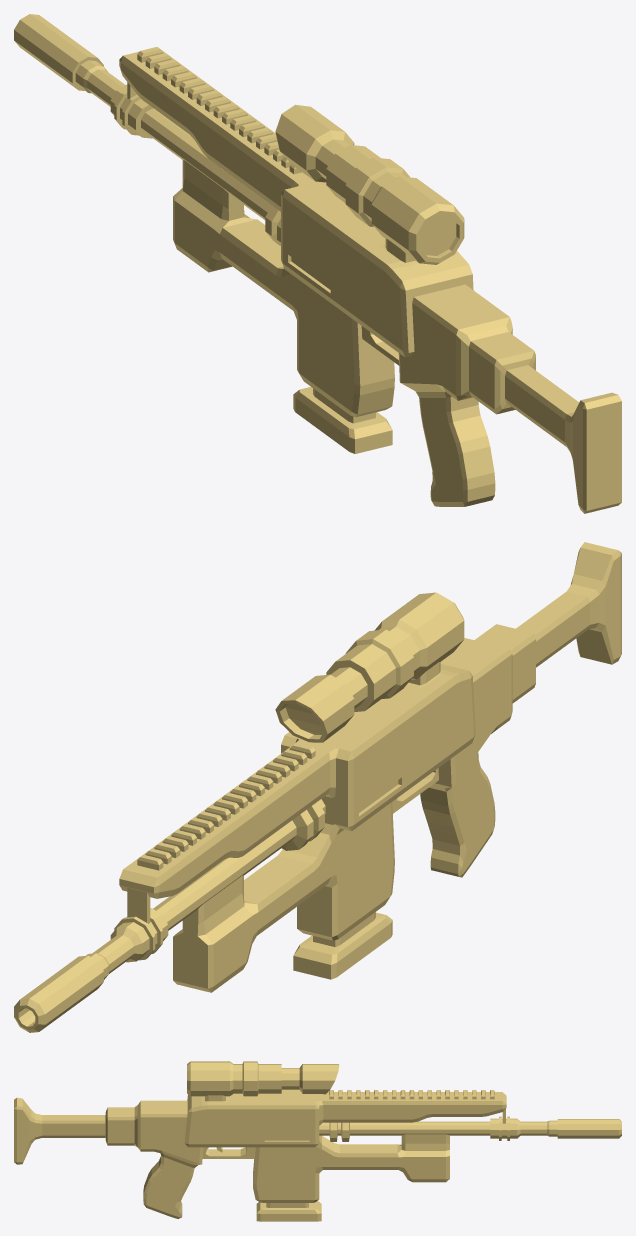
The model's file is rifle.glb.
3 views of the same model, one above another, from view 1: azimuth 30°, elevation 25°; view 2: azimuth 150°, elevation 25°; view 3: azimuth 270°, elevation 25° (orthographic). The views are drawn at different scales.
Parts seen in each view (by area): view 1: Rifle_Cube; view 2: Rifle_Cube; view 3: Rifle_Cube.
Part boxes in pixels (x1,y1,x2,y2): Rifle_Cube: (14,14,621,513); Rifle_Cube: (14,542,621,1032); Rifle_Cube: (14,1061,621,1221).
Bounding box in the file's own units: 0.0868 × 0.34 × 1.22.
